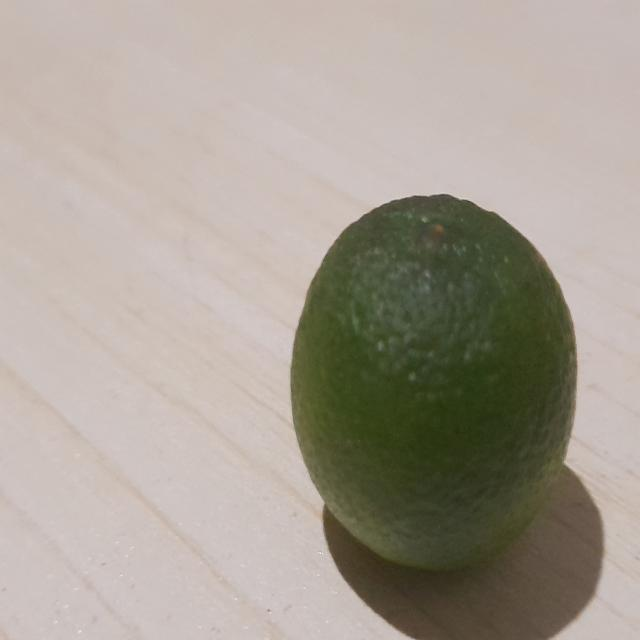heathy: (290, 192, 581, 573)
